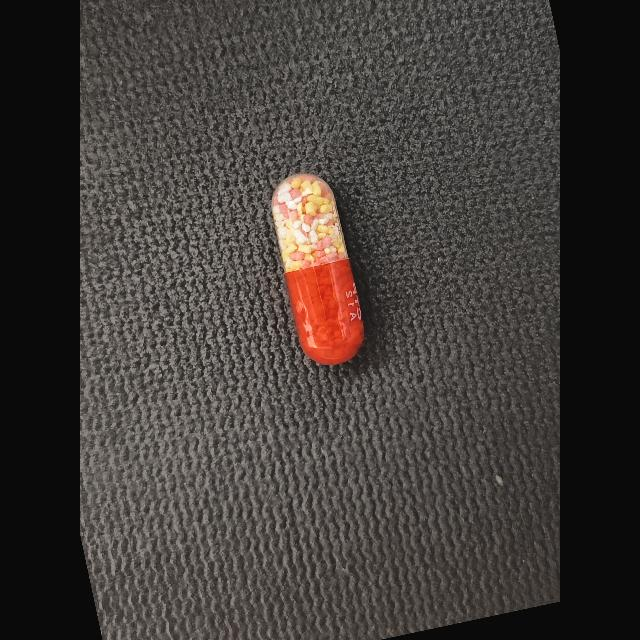Intact Capsule: (271, 173, 364, 365)
